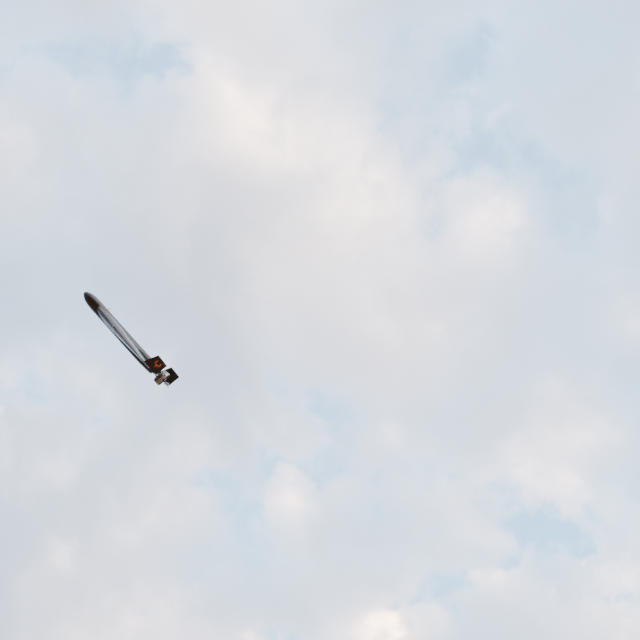shahed: (83, 292, 179, 388)
